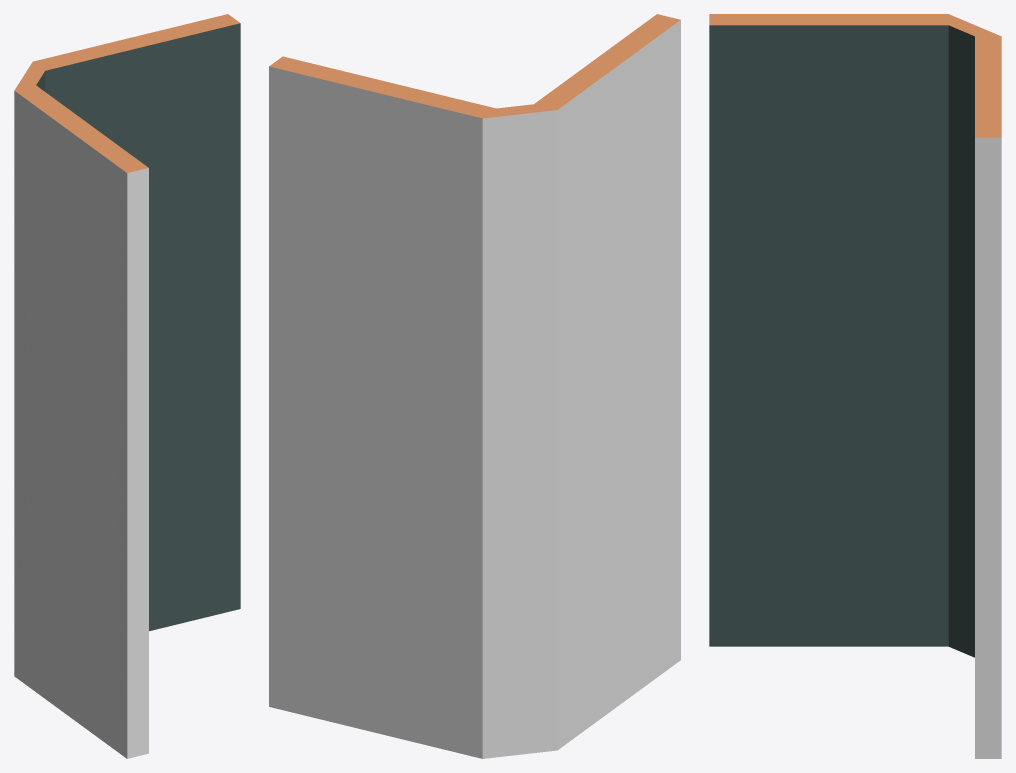
File: wallCorner.obj
The picture shows the model from 3 angles, left to right: view 1: azimuth 30°, elevation 25°; view 2: azimuth 150°, elevation 25°; view 3: azimuth 270°, elevation 25°; orthographic projection. The views are drawn at different scales.
Parts seen in each view (by area): view 1: wallCorner; view 2: wallCorner; view 3: wallCorner.
Boxes of the visible parts, x1,y1,x2,y2 form: wallCorner: (14,14,240,758); wallCorner: (269,14,680,758); wallCorner: (709,14,1001,758).
Bounding box in the file's own units: 0.55 × 1.29 × 0.55.
